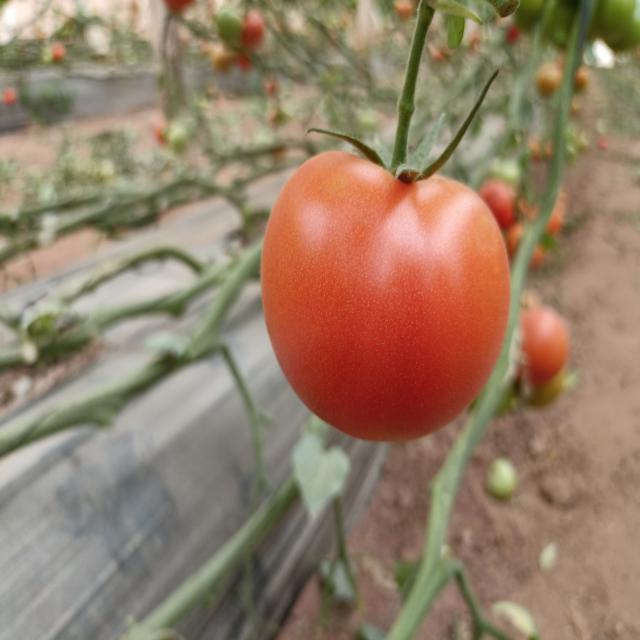Ripe Tomato: (265, 146, 511, 448)
